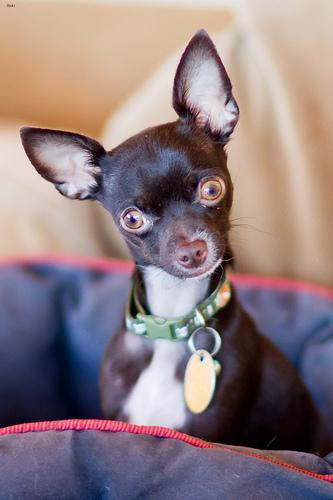dog-chihuahua: (18, 27, 237, 276)
